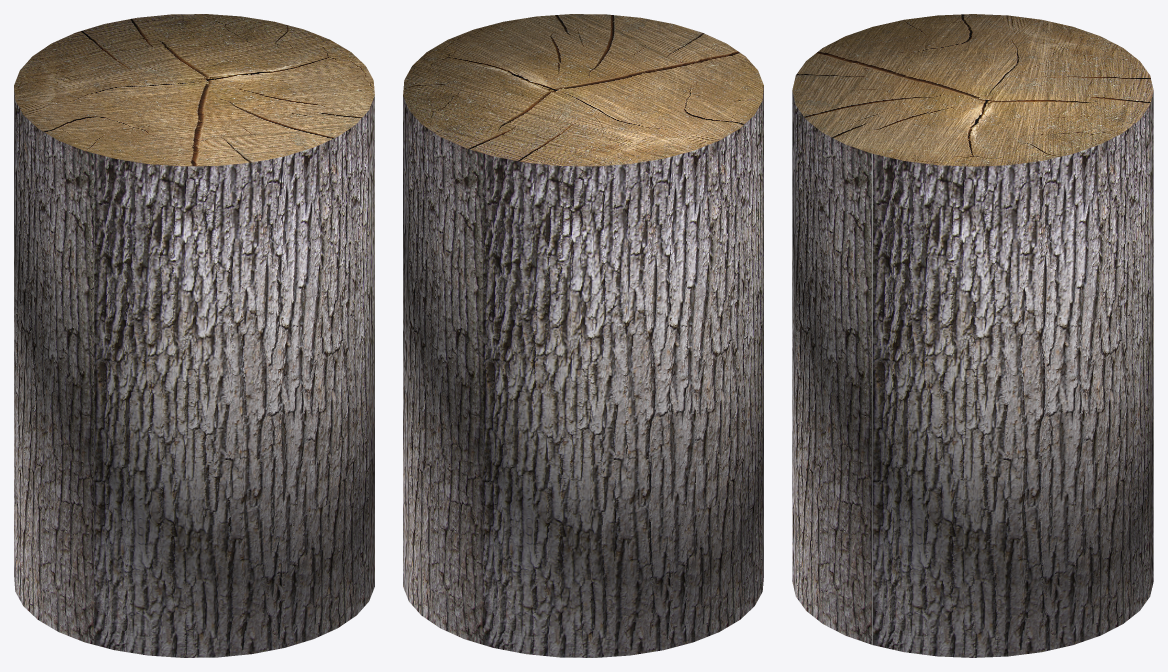
Rendered from stump.obj.
3 renders of one model, left to right at view 1: azimuth 30°, elevation 25°; view 2: azimuth 150°, elevation 25°; view 3: azimuth 270°, elevation 25°, orthographic.
Parts seen in each view (by area): view 1: Cylinder; view 2: Cylinder; view 3: Cylinder.
Boxes of the visible parts, x1,y1,x2,y2 form: Cylinder: [14, 14, 374, 657]; Cylinder: [403, 14, 763, 657]; Cylinder: [792, 14, 1153, 657].
Bounding box in the file's own units: 1.15 × 1.73 × 1.15.
